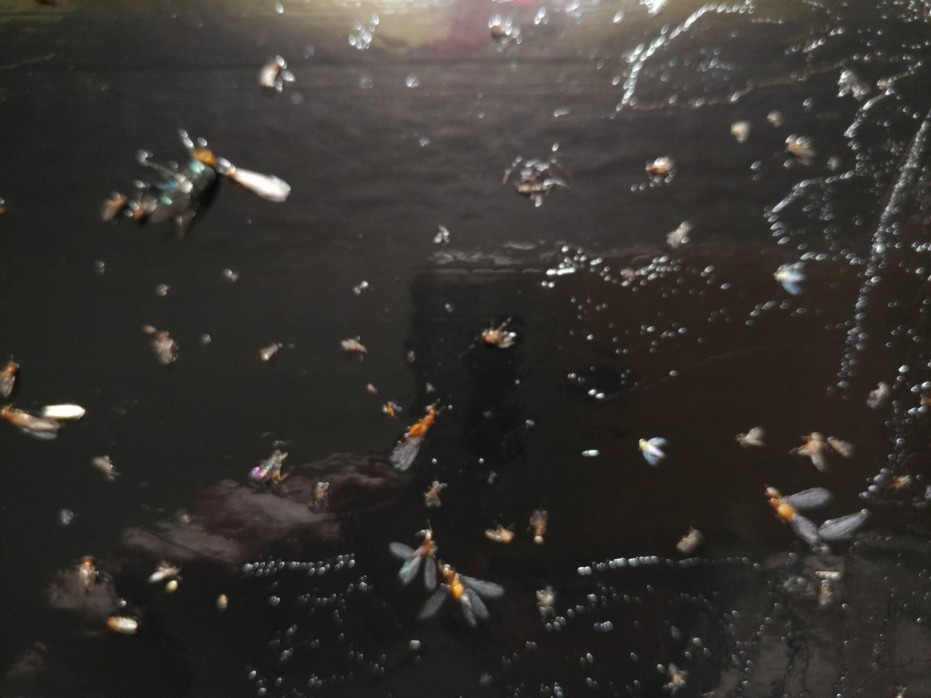fly: (96, 124, 297, 240)
